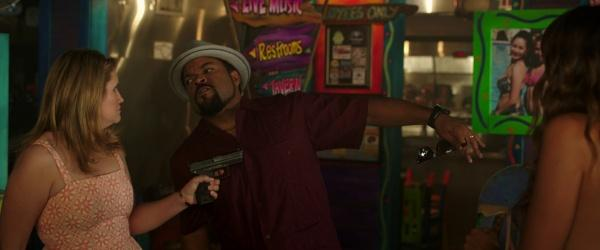Gun: (187, 148, 248, 207)
